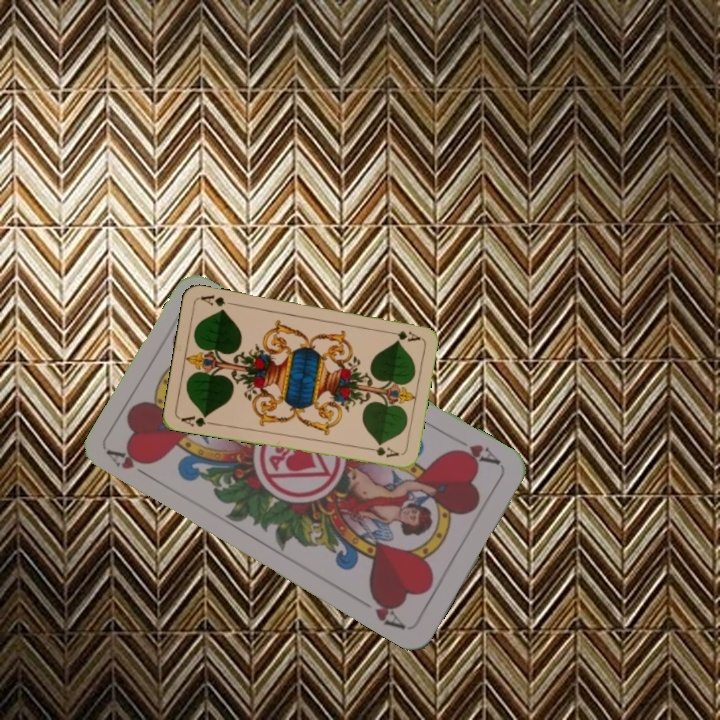GA: (177, 411, 217, 430), (383, 326, 423, 344)
HA: (105, 445, 159, 484), (448, 433, 504, 468)
